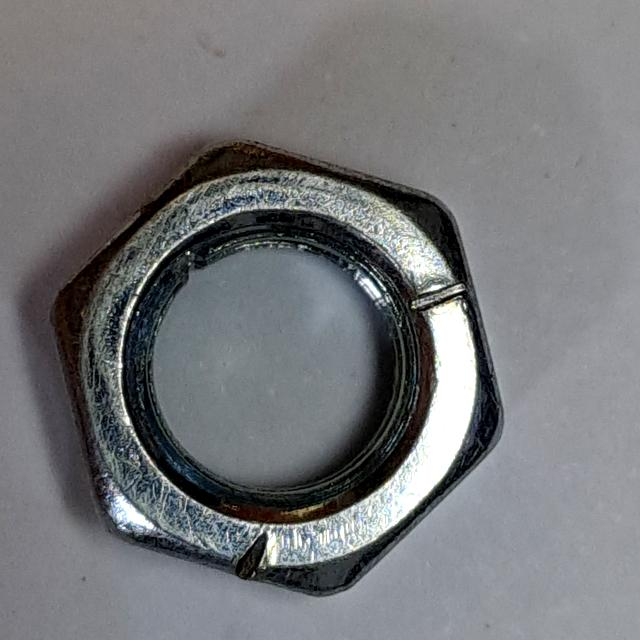Scratches: (38, 126, 527, 615)
